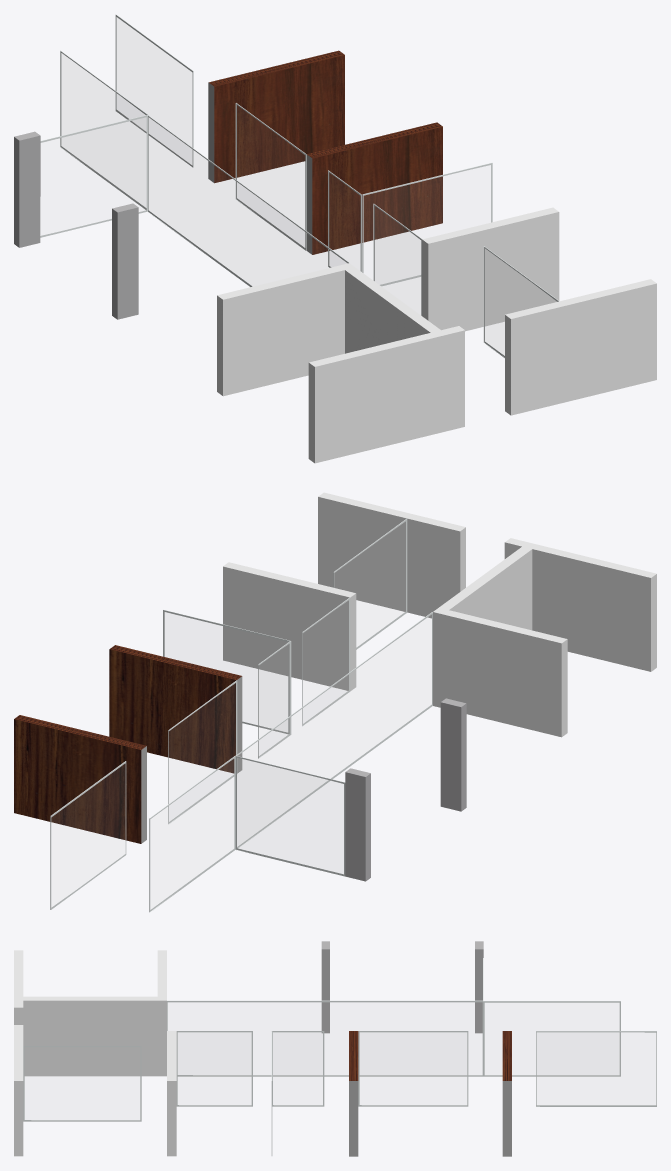
Rendered from paredes_p1.glb.
The picture shows the model from 3 angles, top to bottom: view 1: azimuth 30°, elevation 25°; view 2: azimuth 150°, elevation 25°; view 3: azimuth 270°, elevation 25°; orthographic projection. The views are drawn at different scales.
Parts seen in each view (by area): view 1: pared_frente.001, columna1.021, columna1.022, pared_frente.002, pared_frente.004, pared_frente.003, pared vidrio 1.010, pared vidrio 1.011, a_1_export.016, a_1_export.021, a_1_export.018, a_1_export.019 (+2 smaller); view 2: pared_frente.001, pared_frente.004, columna1.022, pared_frente.002, columna1.021, pared_frente.003, pared vidrio 1.010, pared vidrio 1.011, a_1_export.016, a_1_export.013, a_1_export.018, a_1_export.021 (+2 smaller); view 3: pared_frente.003, pared_frente.001, a_1_export.016, pared_frente.004, pared_frente.002, columna1.021, columna1.022, pared vidrio 1.010, a_1_export.018, a_1_export.023, pared vidrio 1.011, a_1_export.019 (+3 smaller).
Boxes of the visible parts, <box> form: pared_frente.001: <box>308,279,656,463</box>; columna1.021: <box>306,122,442,254</box>; columna1.022: <box>208,50,344,183</box>; pared_frente.002: <box>422,207,559,331</box>; pared_frente.004: <box>217,263,354,396</box>; pared_frente.003: <box>345,267,440,353</box>; pared vidrio 1.010: <box>112,203,138,319</box>; pared vidrio 1.011: <box>14,131,40,247</box>; a_1_export.016: <box>147,115,349,286</box>; a_1_export.021: <box>115,14,193,167</box>; a_1_export.018: <box>60,50,148,210</box>; a_1_export.019: <box>235,103,306,250</box>; pared_frente.001: <box>318,492,656,671</box>; pared_frente.004: <box>433,608,567,737</box>; columna1.022: <box>14,715,146,843</box>; pared_frente.002: <box>223,562,356,691</box>; columna1.021: <box>109,645,242,773</box>; pared_frente.003: <box>439,546,532,630</box>; pared vidrio 1.010: <box>440,698,466,811</box>; pared vidrio 1.011: <box>345,768,370,881</box>; a_1_export.016: <box>236,612,432,848</box>; a_1_export.013: <box>235,756,345,876</box>; a_1_export.018: <box>149,755,235,912</box>; a_1_export.021: <box>50,761,126,909</box>; pared_frente.003: <box>23,996,157,1076</box>; pared_frente.001: <box>14,950,23,1156</box>; a_1_export.016: <box>167,1000,482,1076</box>; pared_frente.004: <box>157,950,166,1076</box>; pared_frente.002: <box>167,1031,176,1156</box>; columna1.021: <box>349,1031,358,1156</box>; columna1.022: <box>502,1031,511,1156</box>; pared vidrio 1.010: <box>321,941,329,1033</box>; a_1_export.018: <box>483,1001,620,1076</box>; a_1_export.023: <box>23,1046,141,1121</box>; pared vidrio 1.011: <box>475,941,483,1033</box>; a_1_export.019: <box>358,1031,468,1106</box>.
Size of the model in its own units: 58.8 by 17.58 by 122.
6 materials, 1 textured.
